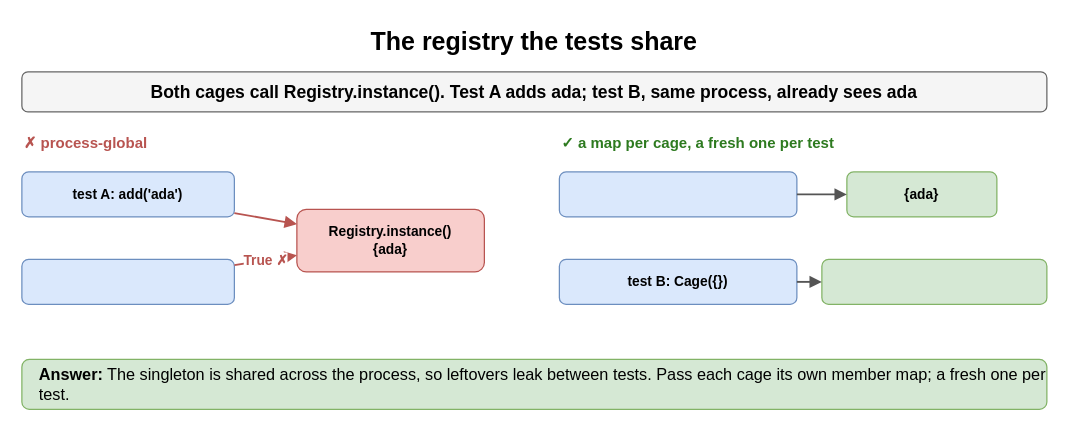
Image size: 1069x431. Some labels were removed from this diagram. The box of each missing label's shape, as (x1, y1, x2, y2) in pixels:
test A: Cage({}) add ada: (558, 171, 797, 217)
test B: 'ada' in members?: (21, 258, 234, 304)
{ } → 'ada' in → False: (821, 258, 1047, 304)
